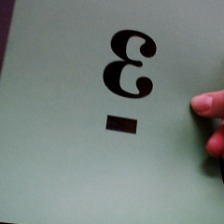green3: (95, 27, 165, 137)
